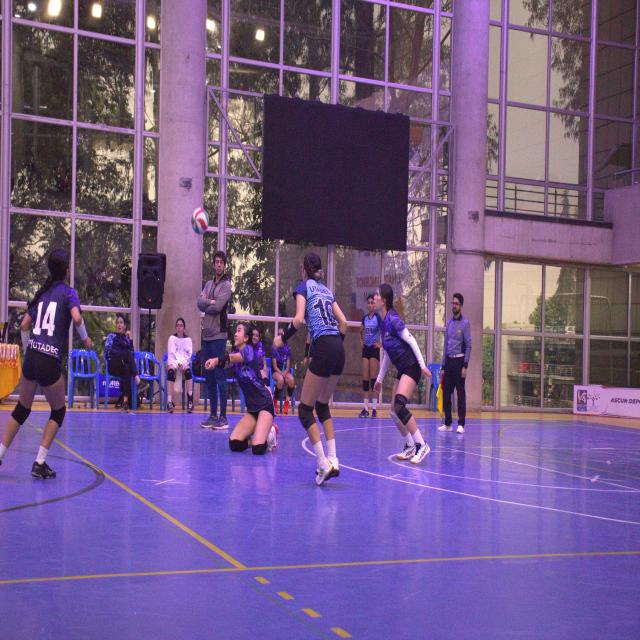volleyball: (193, 205, 209, 235)
